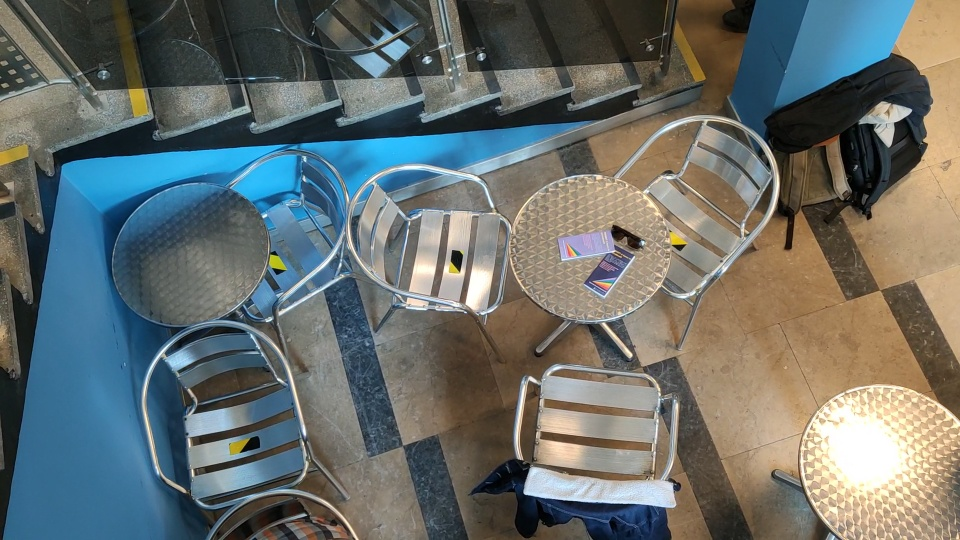chair: (125, 315, 352, 500), (609, 114, 787, 347), (211, 144, 385, 360), (347, 165, 519, 365), (508, 355, 684, 509)
table: (500, 172, 678, 363), (769, 381, 954, 540), (110, 182, 275, 330)
